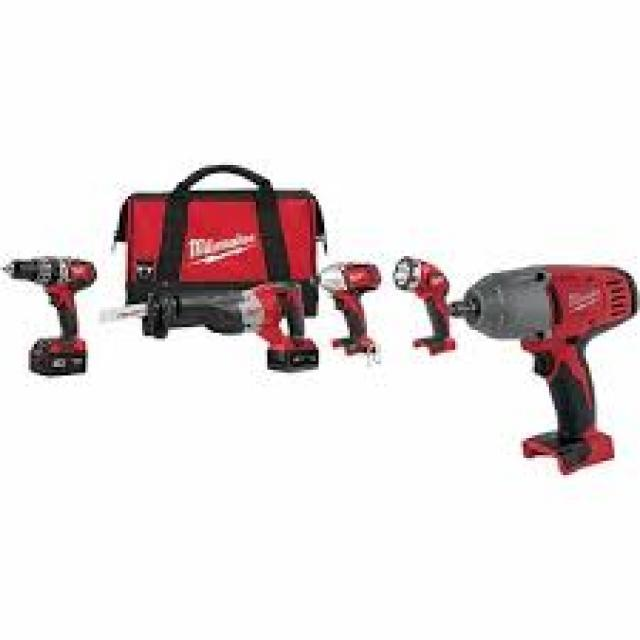drill: (444, 260, 640, 481), (0, 248, 106, 385), (302, 253, 396, 377), (387, 251, 460, 380)
